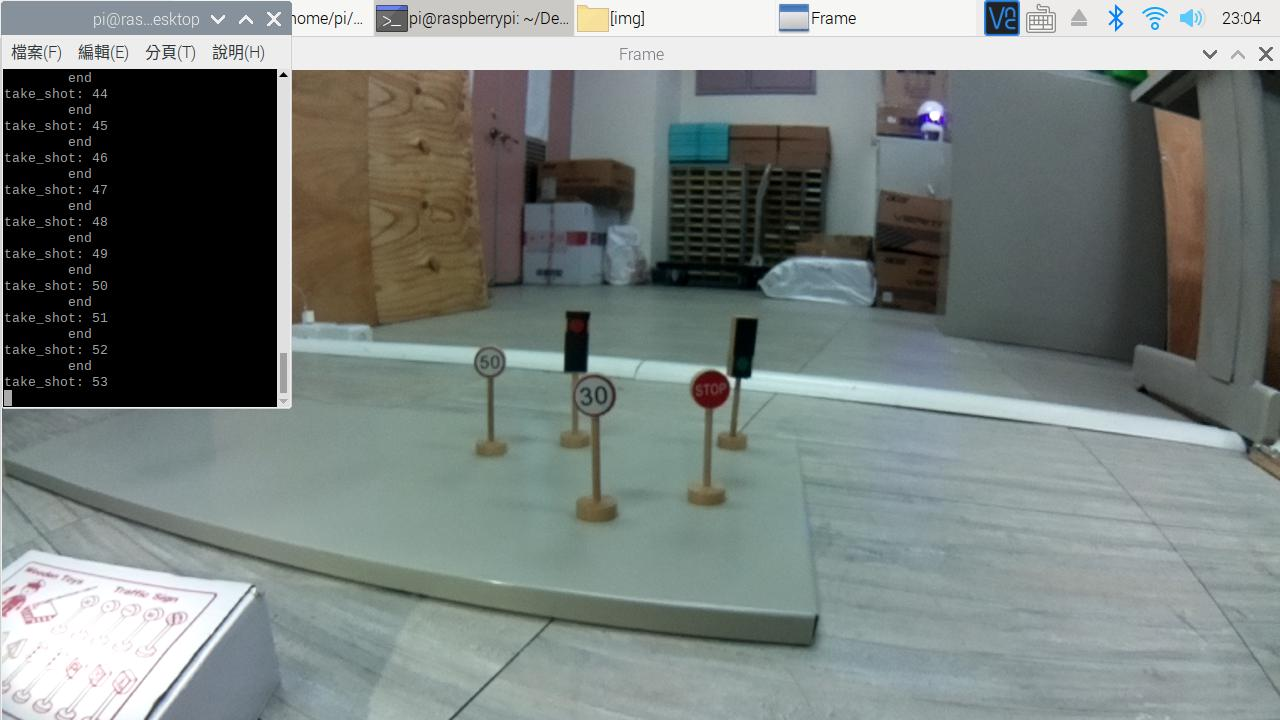Green: (732, 311, 761, 385)
Red: (564, 312, 590, 374)
Speed30: (574, 375, 622, 422)
Speed50: (476, 344, 512, 382)
Stop: (687, 368, 729, 409)
